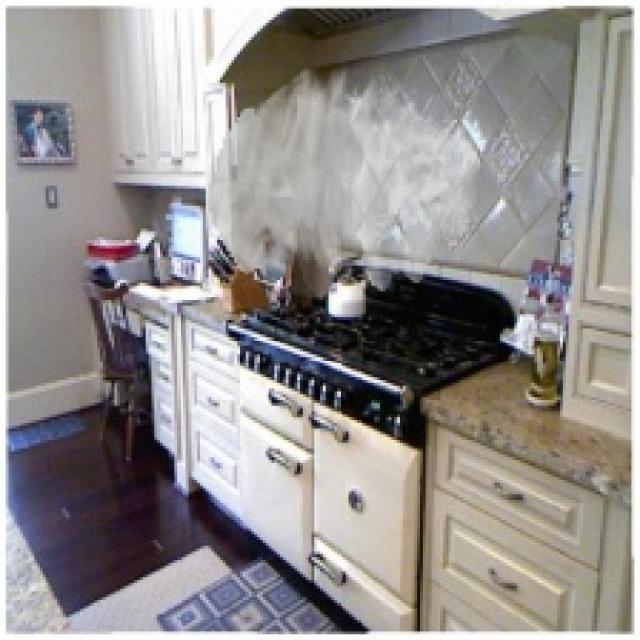Smoke: (208, 66, 481, 292)
